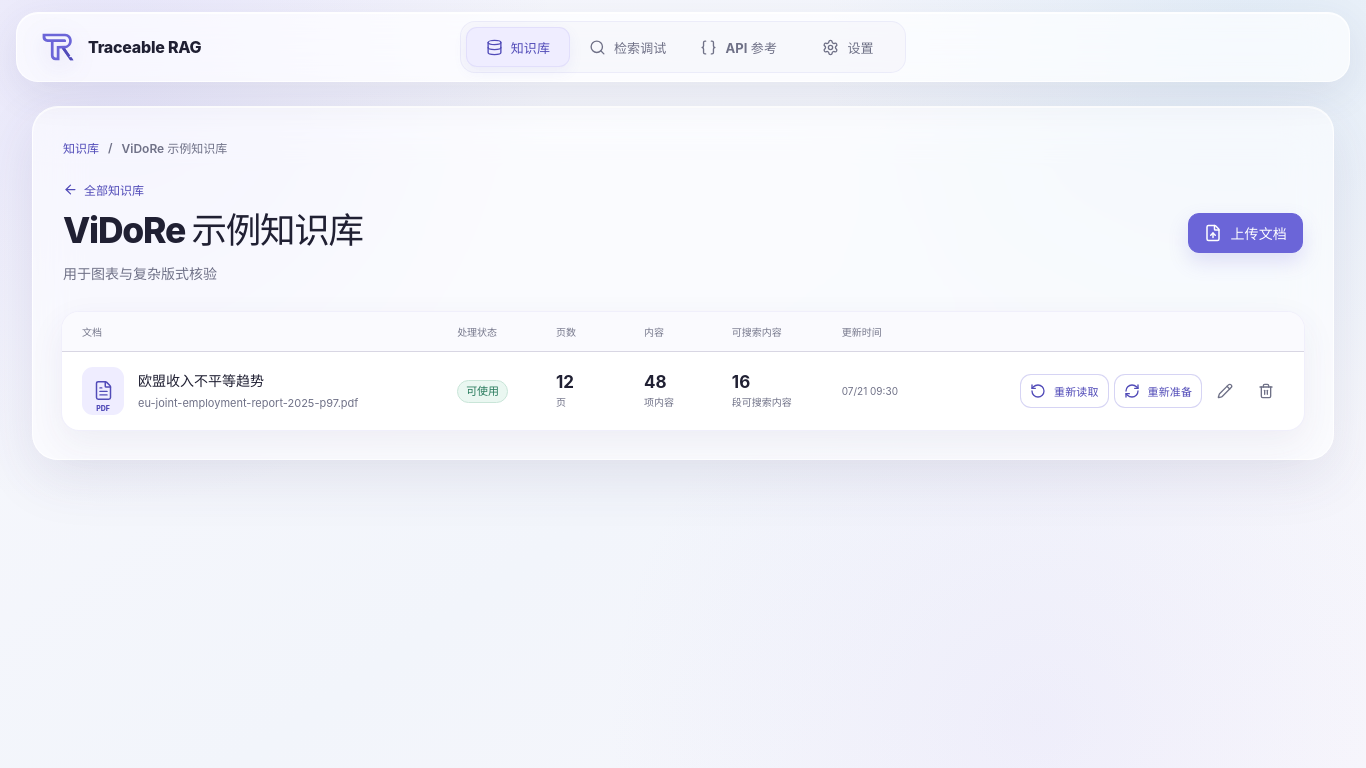
knowledge base pages › rejects a managed process response that omits operation counts
Click the button with aria-label "重新读取欧盟收入不平等趋势" at coordinates (1064, 391), box 1020,374 -> 1109,408
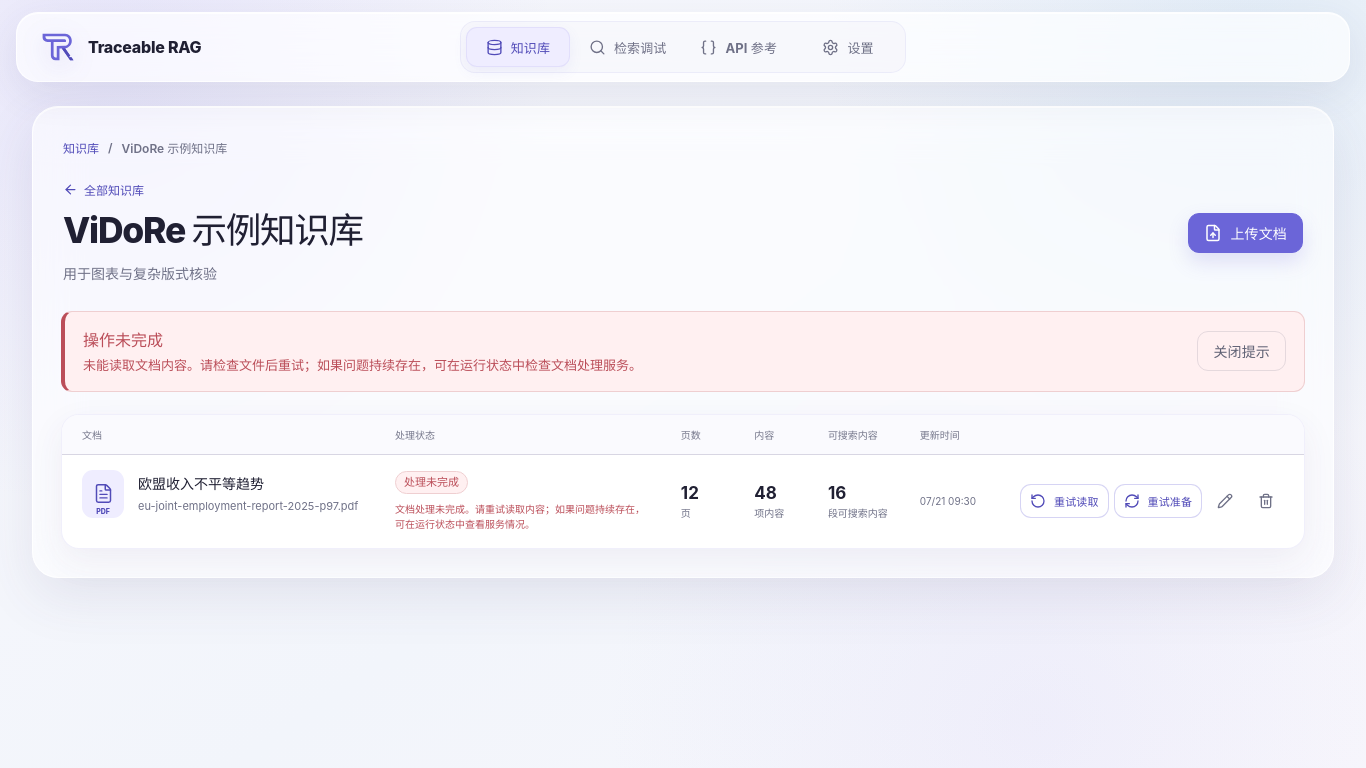
Expected: the message shows "未能读取文档内容", 83,357 -> 642,373
Expected: the text "处理未完成" is shown, 395,471 -> 468,494
